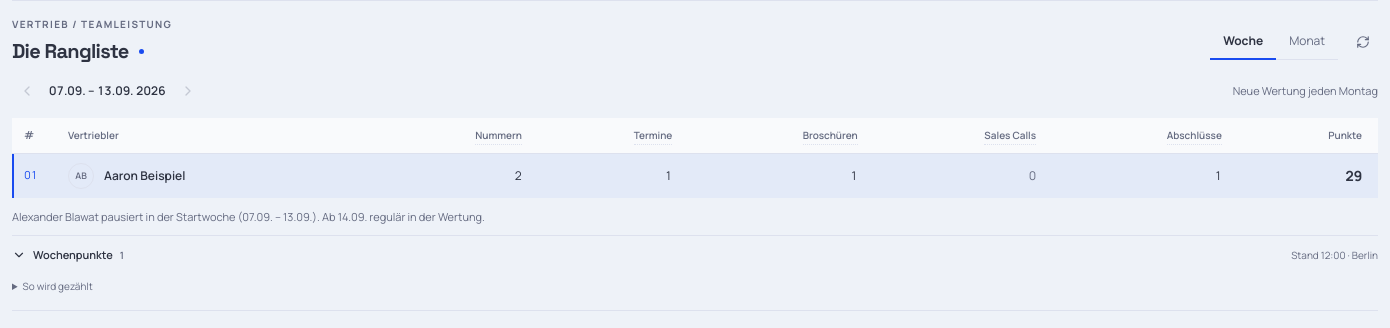
Test: sales ranking › switches to the calendar month without keeping stale weekly numbers
Expected: the text "Aaron Beispiel" is shown, [104,166,185,184]
Click the button "Monat" at (1307, 42), box [1276,24,1338,60]
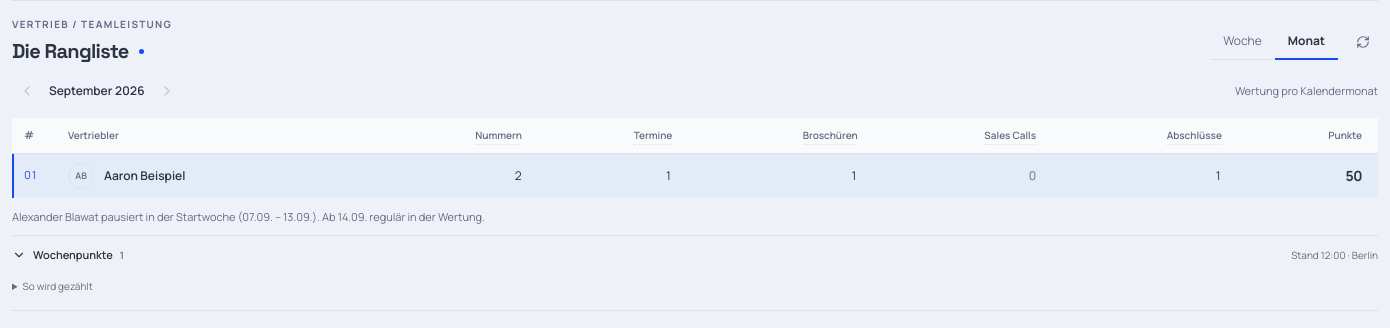
Result: the text "50" is shown at [1345,166,1362,185]
Result: the text "29" is gone
Result: the text "September 2026" is shown at [49,82,145,100]
